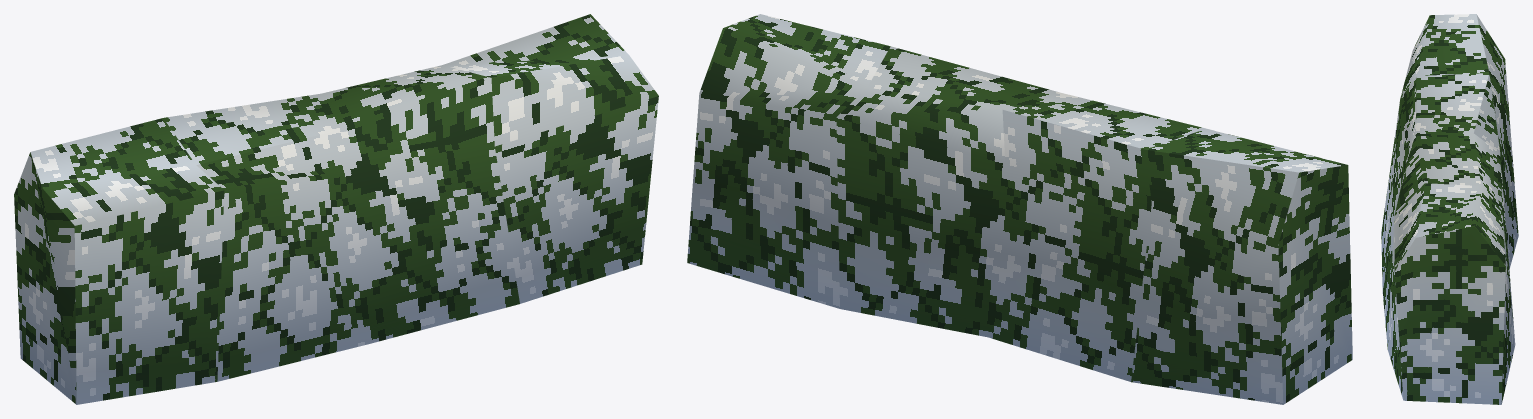
The model's file is mnat.hedgerow.glb.
3 renders of one model, left to right at view 1: azimuth 30°, elevation 25°; view 2: azimuth 150°, elevation 25°; view 3: azimuth 270°, elevation 25°, orthographic. The views are drawn at different scales.
Parts seen in each view (by area): view 1: kit_hedge; view 2: kit_hedge; view 3: kit_hedge.
Boxes of the visible parts, bbox=[...] form: kit_hedge: bbox=[14, 14, 658, 404]; kit_hedge: bbox=[687, 14, 1352, 404]; kit_hedge: bbox=[1381, 14, 1518, 404].
Size of the model in its own units: 4.14 by 1.46 by 1.05.
Materials: 1 (1 with a texture image).
